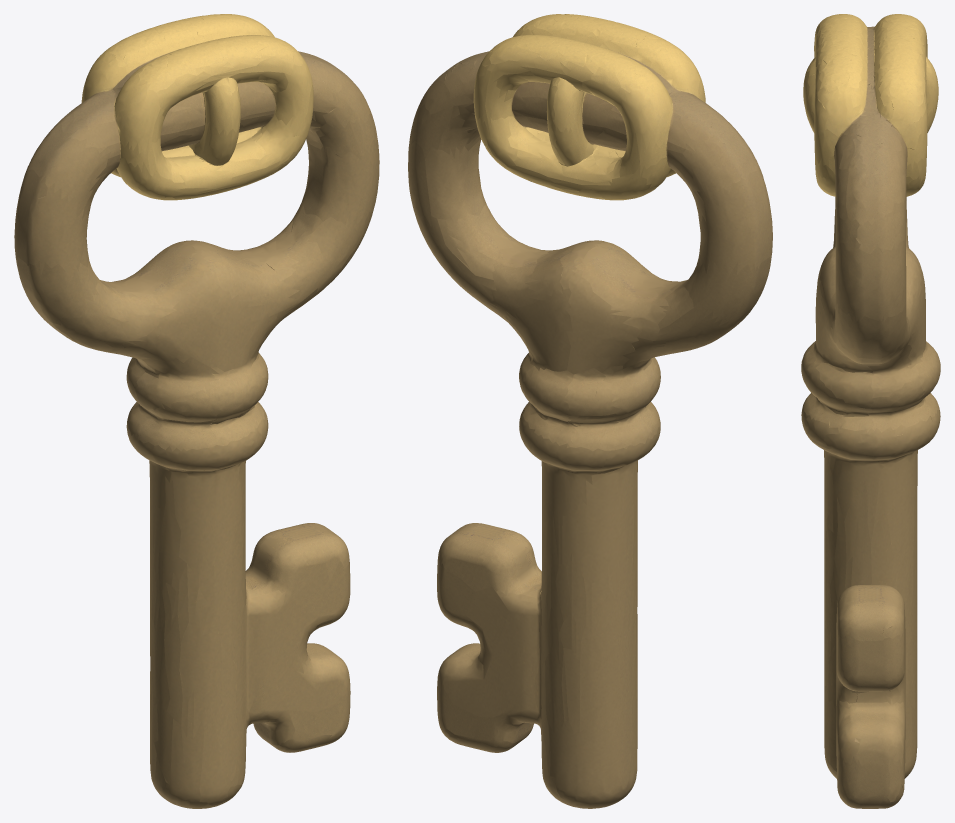
File: key-t2.original.glb
The picture shows the model from 3 angles, left to right: view 1: azimuth 30°, elevation 25°; view 2: azimuth 150°, elevation 25°; view 3: azimuth 270°, elevation 25°; orthographic projection. The views are drawn at different scales.
Parts seen in each view (by area): view 1: mesh_node; view 2: mesh_node; view 3: mesh_node.
Part boxes in pixels (x1,y1,x2,y2): mesh_node: [14, 14, 379, 808]; mesh_node: [408, 14, 772, 808]; mesh_node: [801, 14, 940, 808].
Size of the model in its own units: 0.9161 by 1.9 by 0.3222.
Materials: 1 (1 with a texture image).
